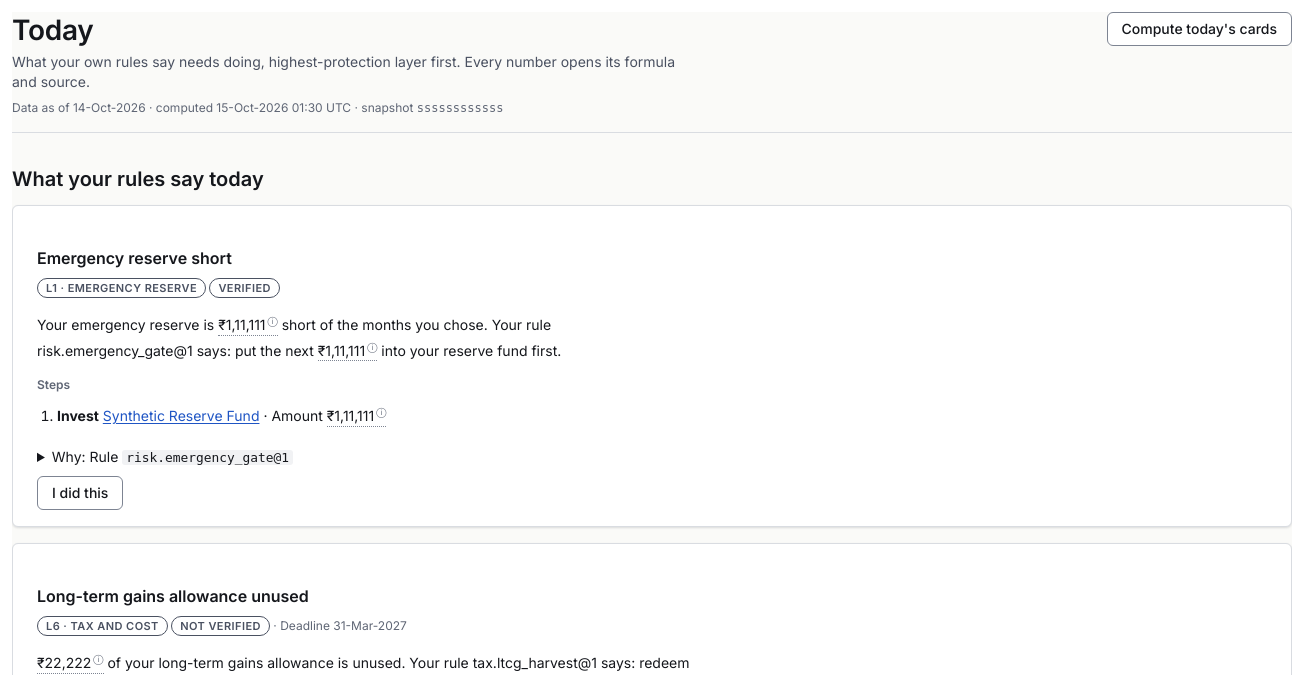
Today page › 'I did this' posts once and does not reload Today
Step 1. Click the button "I did this" → point(80, 493), box x1=37 y1=476 x2=123 y2=510
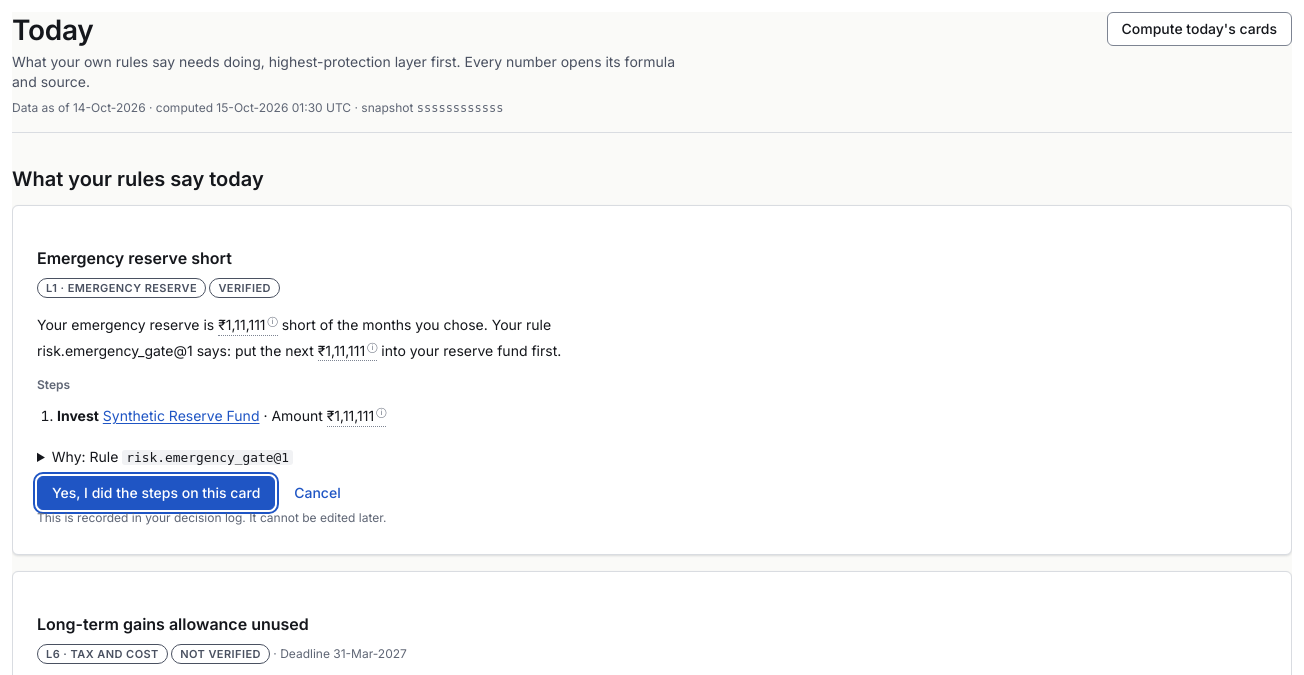
Step 2. Click the button "Yes, I did the steps on this card" → point(156, 493), box x1=37 y1=476 x2=275 y2=510
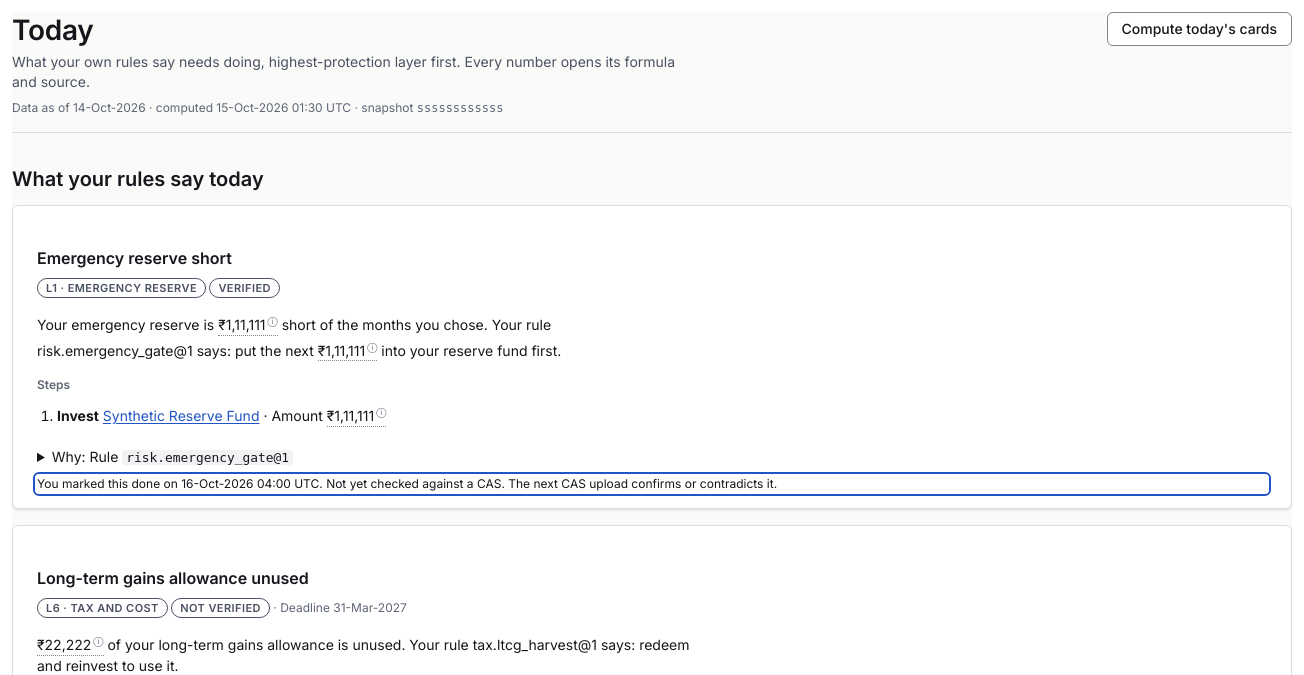
Now the text "You marked this done" is shown, box x1=37 y1=476 x2=181 y2=491
